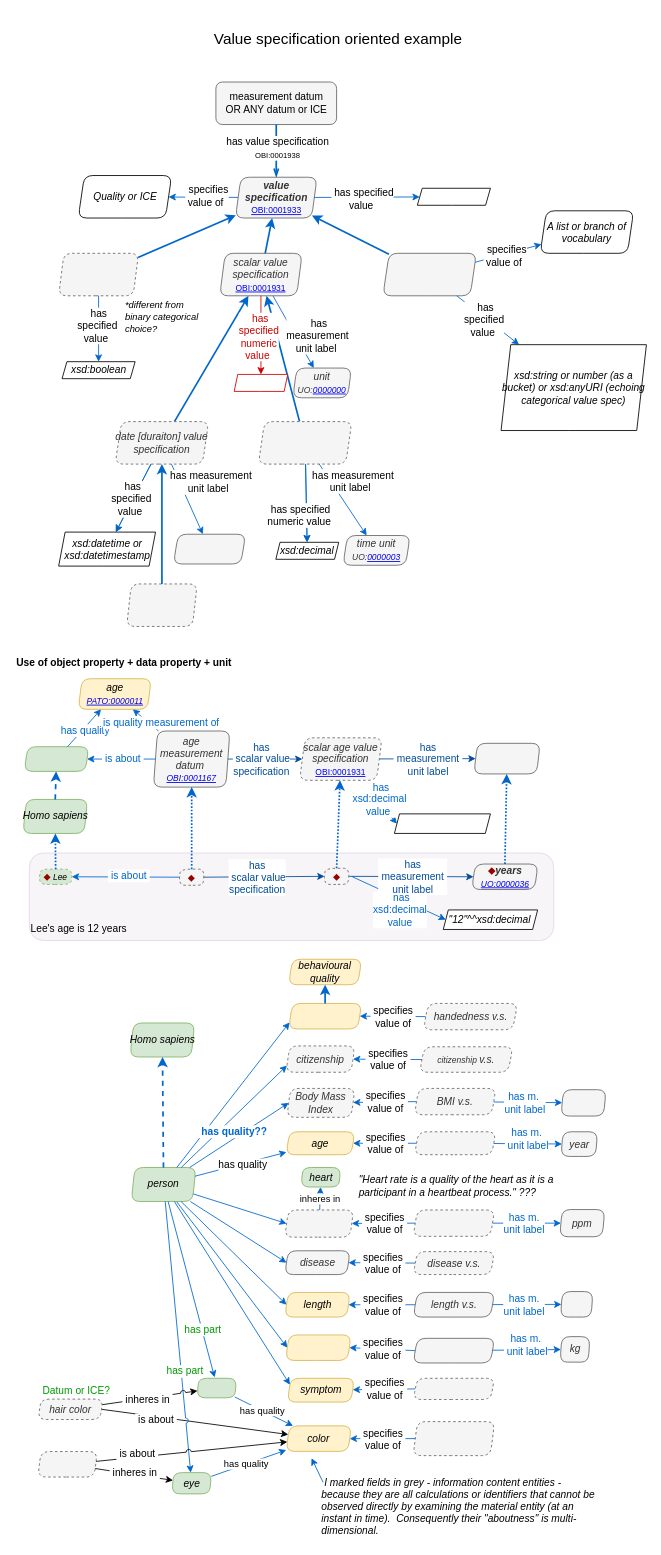
The diagram is 661 pixels wide and 1555 high, and some of its shapes have lost their labels. The centre of each missing label's shape, as x and y in pixels:
"age v.s." goes at pixel 455 1143.
"boolean value specification*" goes at pixel 98 274.
"categorical value specification OBI:0001930" goes at pixel 429 274.
"cm" goes at pixel 576 1304.
"color value specification" goes at pixel 453 1438.
"duration value specification" goes at pixel 305 442.
"eye color" goes at pixel 67 1464.
"hair" goes at pixel 216 1387.
"handedness" goes at pixel 325 1016.
"heart rate" goes at pixel 319 1223.
"heart rate v.s." goes at pixel 453 1222.
"ISO 8601 date value specification" goes at pixel 161 604.
"kg/m 2" goes at pixel 583 1102.
"mammal" goes at pixel 56 758.
"mass" goes at pixel 318 1347.
"mass v.s." goes at pixel 453 1350.
"symptom v.s." goes at pixel 453 1388.
"time unit UO: 0000003" goes at pixel 209 548.
"time unit UO:0000003" goes at pixel 506 758.
"xsd:decimal[ >=0]" goes at pixel 442 823.
"xsd:literal" goes at pixel 453 196.
"xsd:real" goes at pixel 260 382.
